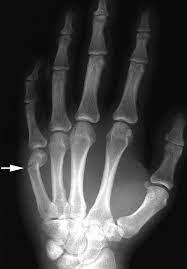fractured: (23, 159, 38, 172)
